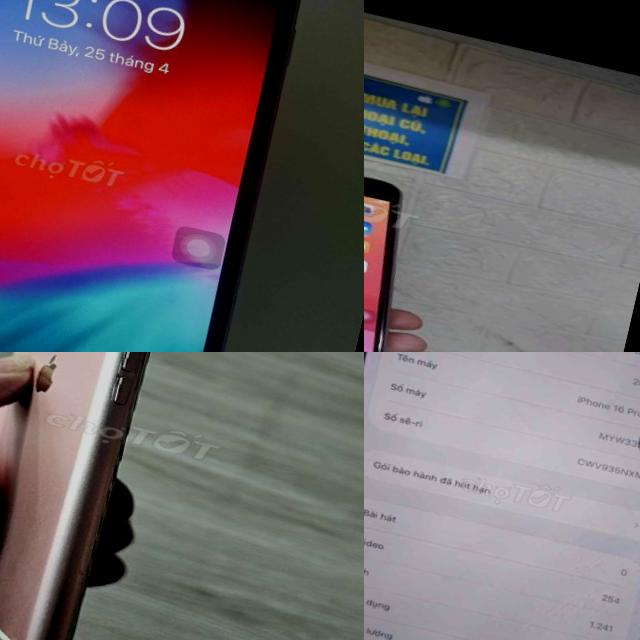gen_16: (364, 352, 640, 640)
gen_6: (0, 0, 359, 352), (0, 352, 149, 640), (364, 135, 444, 352)
